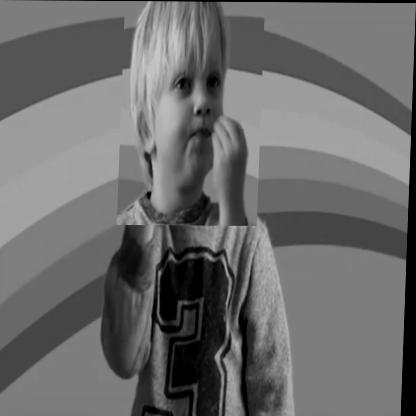Food: (118, 1, 265, 226)
